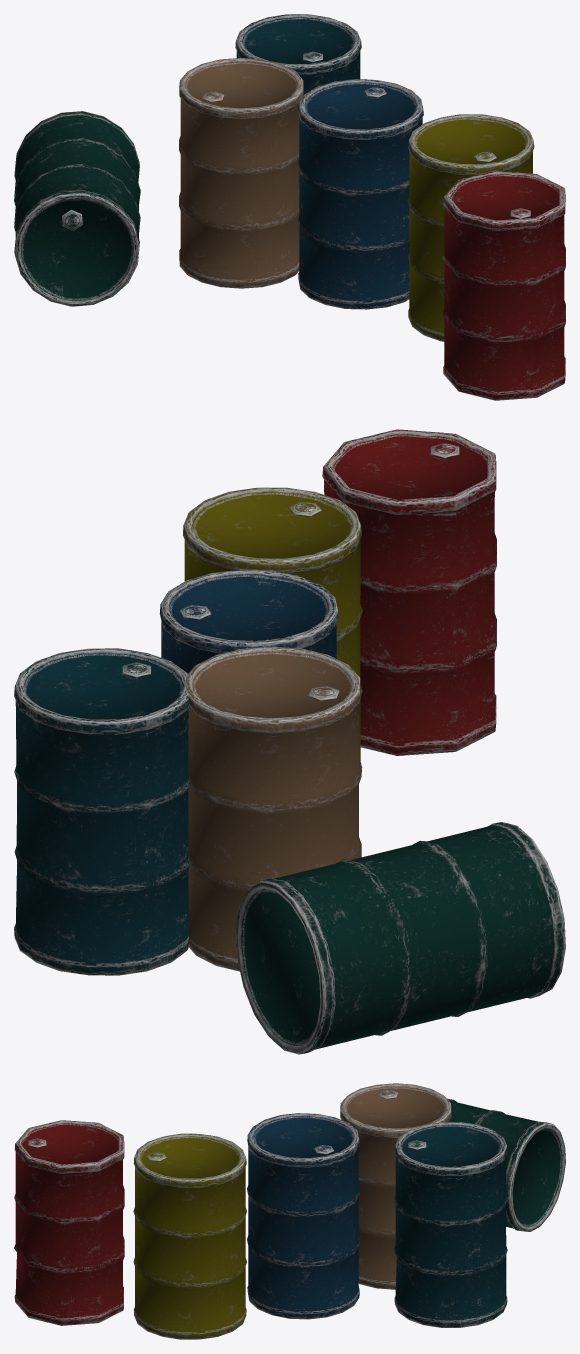
File: barrel-cluster.glb
3 renders of one model, top to bottom at view 1: azimuth 30°, elevation 25°; view 2: azimuth 150°, elevation 25°; view 3: azimuth 270°, elevation 25°, orthographic. The views are drawn at different scales.
Visible parts, largest first — view 1: Barrel_low002, Barrel_low, Barrel_low001, Barrel_low004, Barrel_low005, Barrel_low003; view 2: Barrel_low004, Barrel_low003, Barrel_low, Barrel_low002, Barrel_low005, Barrel_low001; view 3: Barrel_low003, Barrel_low001, Barrel_low005, Barrel_low, Barrel_low002, Barrel_low004.
Part boxes in pixels (box(x1,y1,x2,y2)): Barrel_low002: box(179, 58, 303, 288); Barrel_low: box(442, 170, 565, 400); Barrel_low001: box(298, 79, 423, 309); Barrel_low004: box(14, 111, 140, 306); Barrel_low005: box(407, 114, 534, 341); Barrel_low003: box(235, 14, 361, 94); Barrel_low004: box(235, 822, 565, 1054); Barrel_low003: box(14, 648, 191, 975); Barrel_low: box(322, 429, 496, 755); Barrel_low002: box(185, 646, 361, 971); Barrel_low005: box(183, 487, 362, 773); Barrel_low001: box(159, 569, 338, 673); Barrel_low003: box(394, 1122, 507, 1327); Barrel_low001: box(247, 1113, 360, 1319); Barrel_low005: box(133, 1133, 246, 1339); Barrel_low: box(14, 1120, 124, 1325); Barrel_low002: box(340, 1083, 451, 1289); Barrel_low004: box(447, 1098, 565, 1231).
Bounding box in the file's own units: 141 × 62.77 × 196.
Materials: 6 (6 with a texture image).
